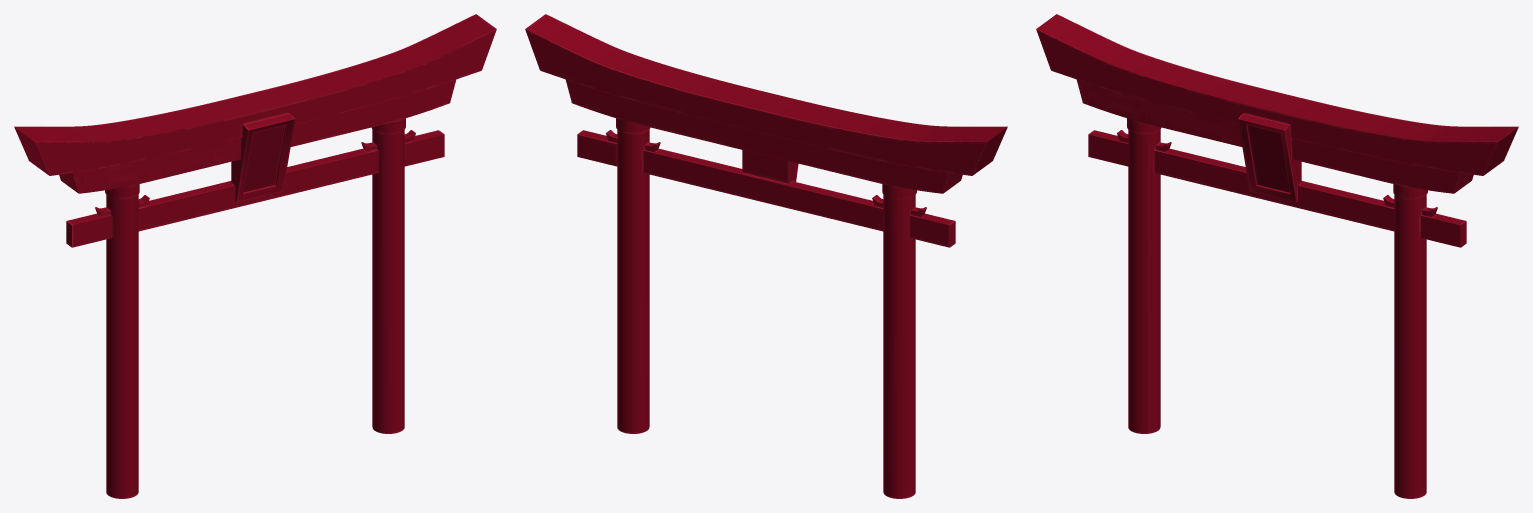
File: Nagasaki.glb
3 renders of one model, left to right at view 1: azimuth 30°, elevation 25°; view 2: azimuth 150°, elevation 25°; view 3: azimuth 330°, elevation 25°, orthographic.
Parts seen in each view (by area): view 1: node_id40; view 2: node_id40; view 3: node_id40.
Boxes of the visible parts, bbox=[...] form: node_id40: bbox=[14, 14, 496, 498]; node_id40: bbox=[525, 14, 1007, 498]; node_id40: bbox=[1036, 14, 1518, 498].
Size of the model in its own units: 0.512 by 0.4041 by 0.0511.
1 material, 1 textured.
